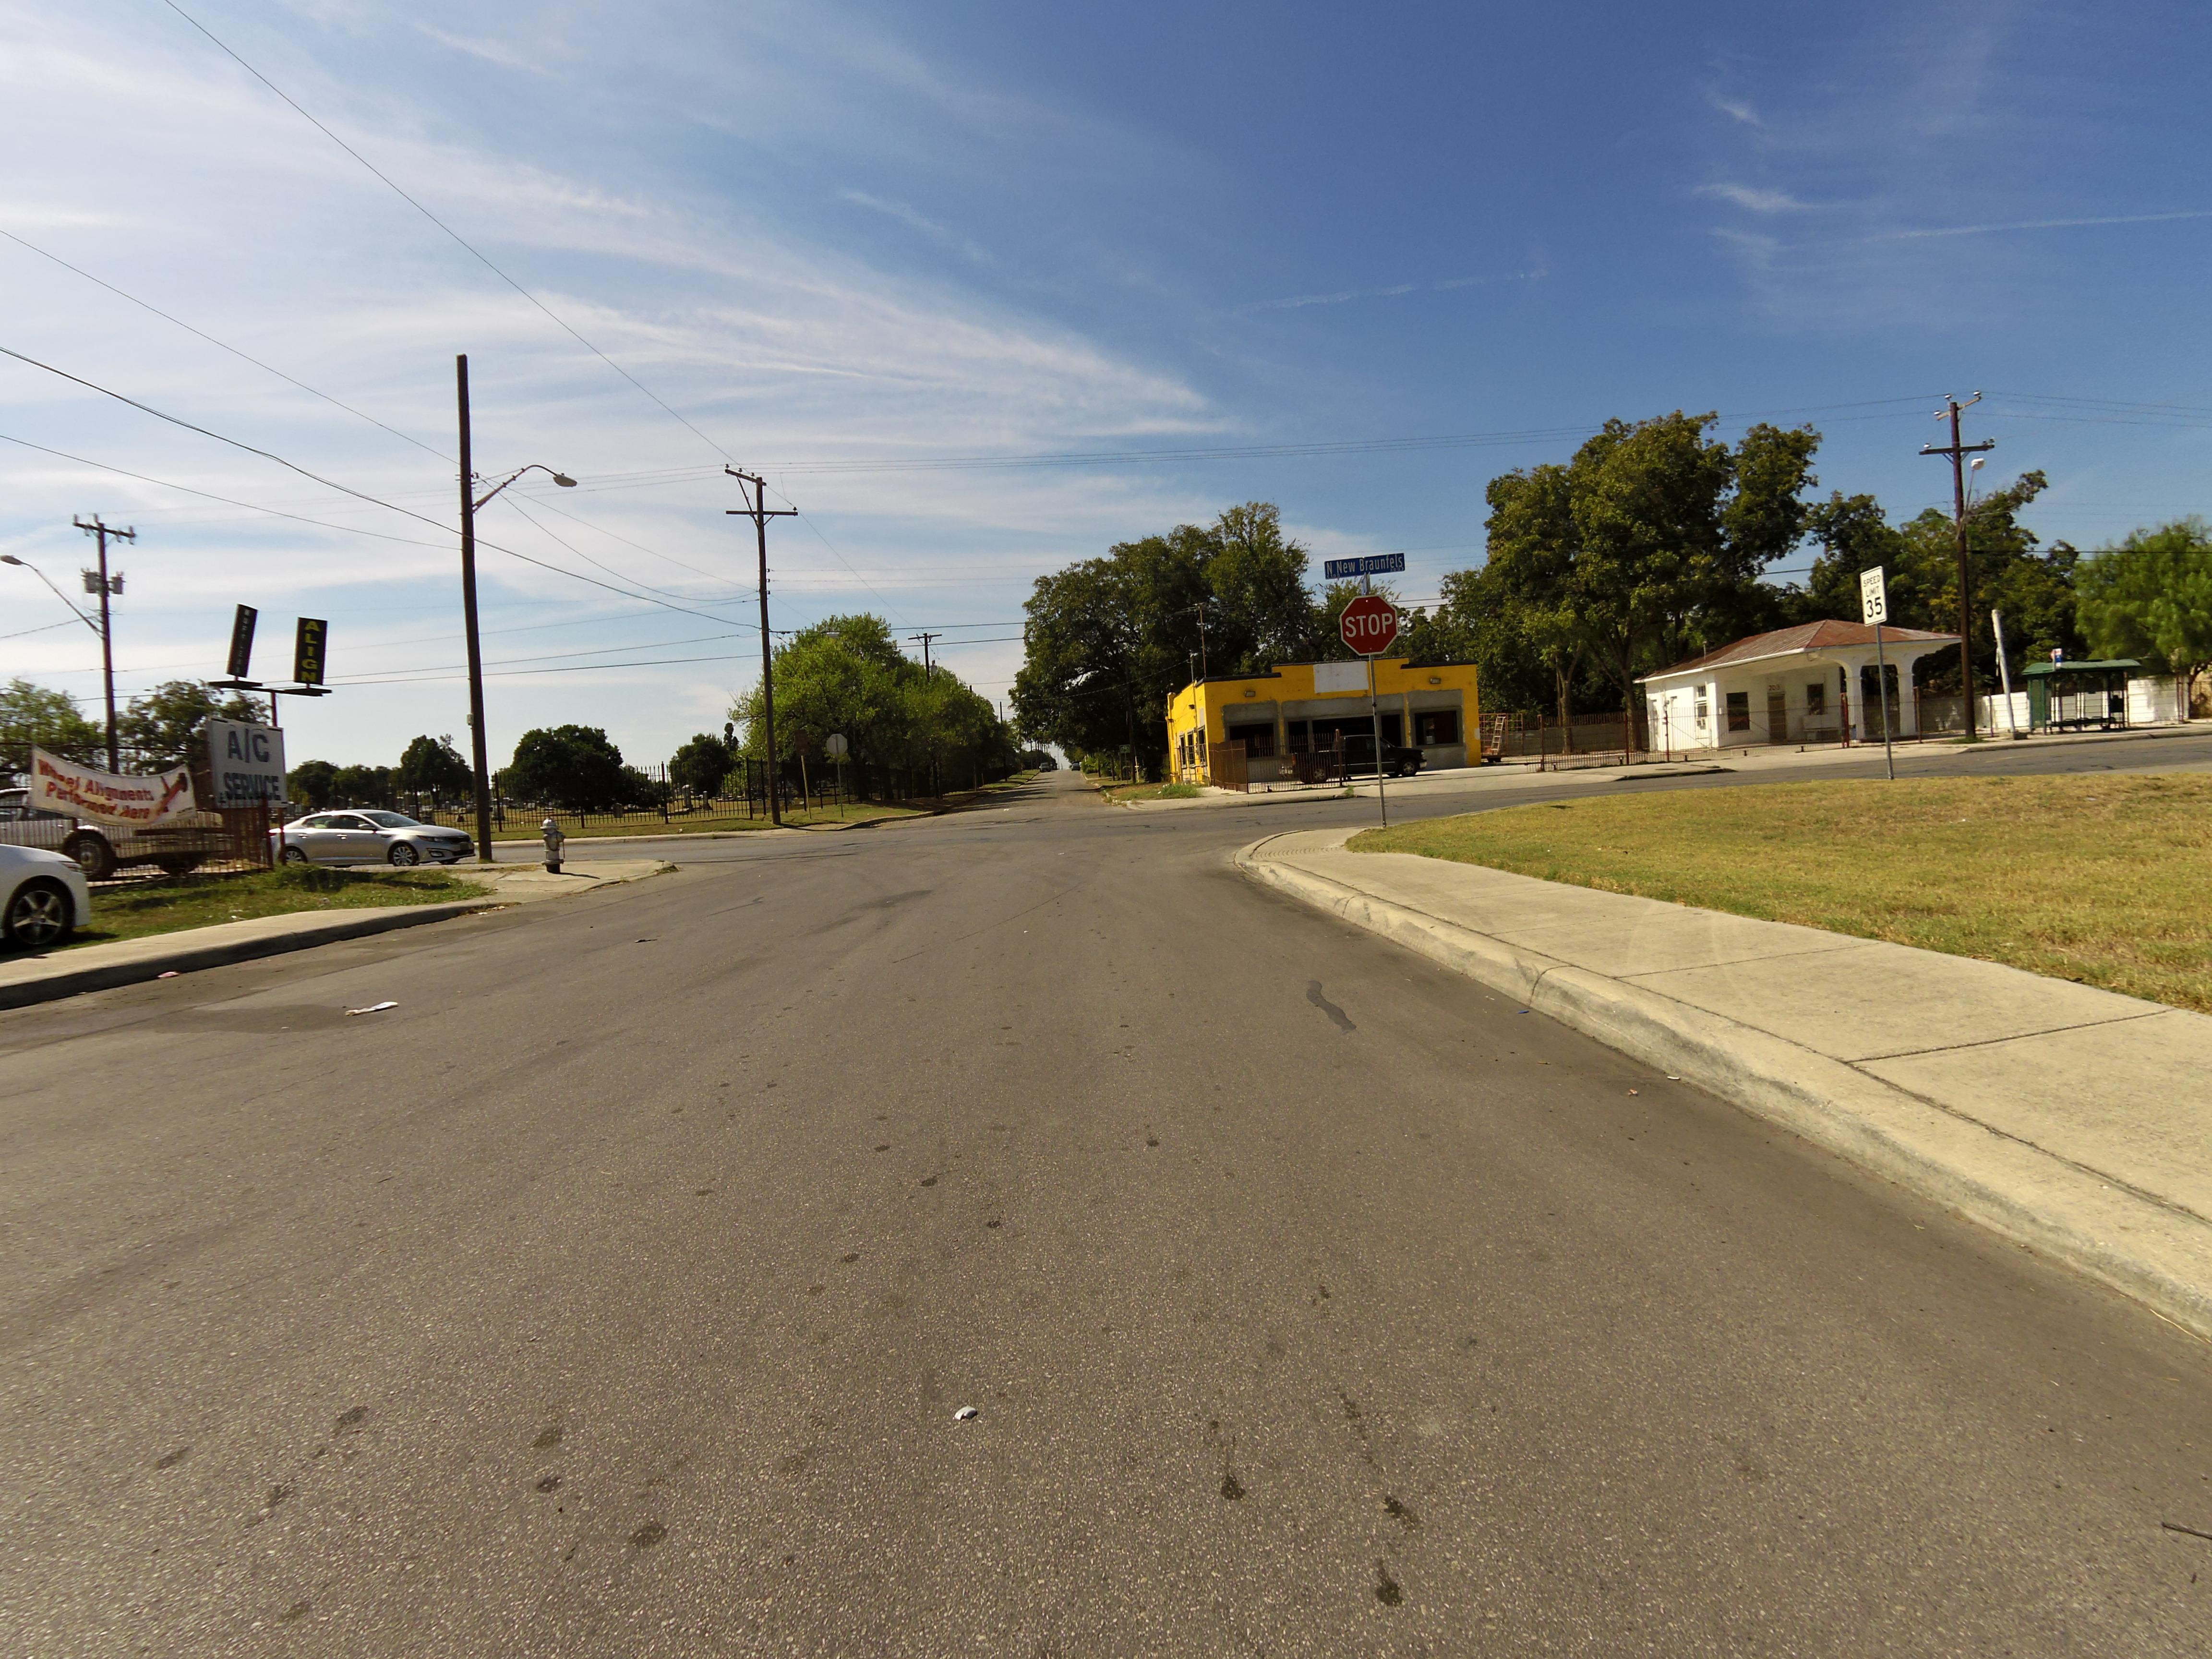vinyl banner: (23, 739, 244, 850)
